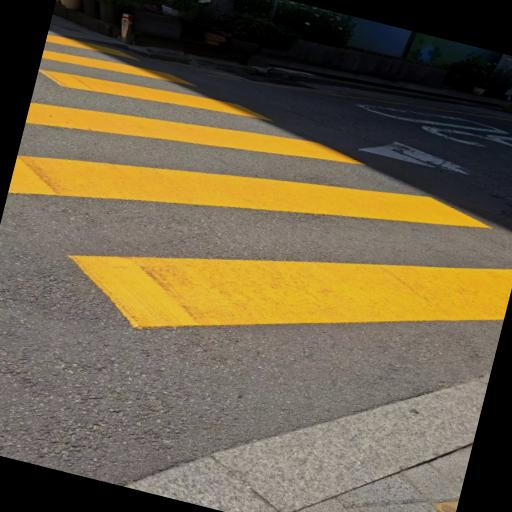yellow-crosswalk: (0, 27, 512, 427)
